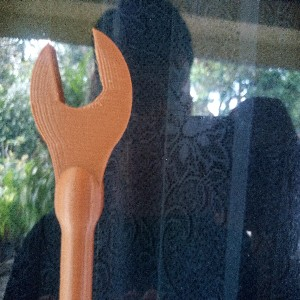spanner: (29, 27, 132, 300)
